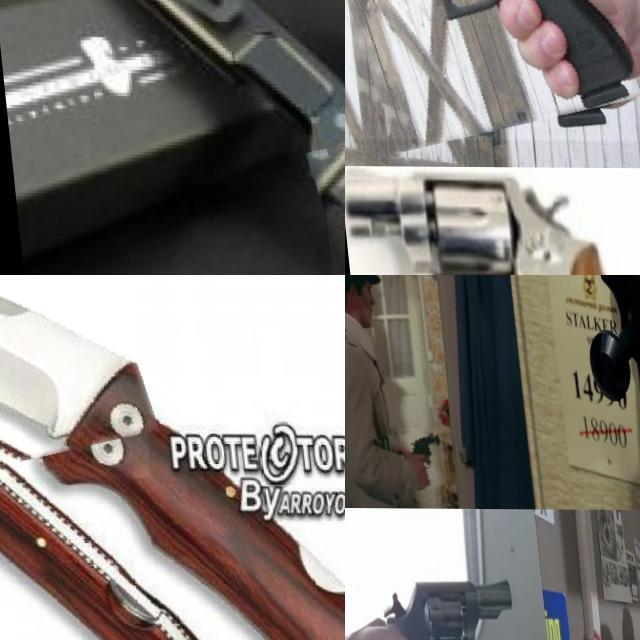-: (0, 275, 166, 478)
gun-knife-thesis - v11 Yolov5 augmented: (345, 0, 630, 144), (345, 167, 640, 275), (345, 551, 517, 640), (578, 275, 640, 509), (394, 428, 442, 488)
